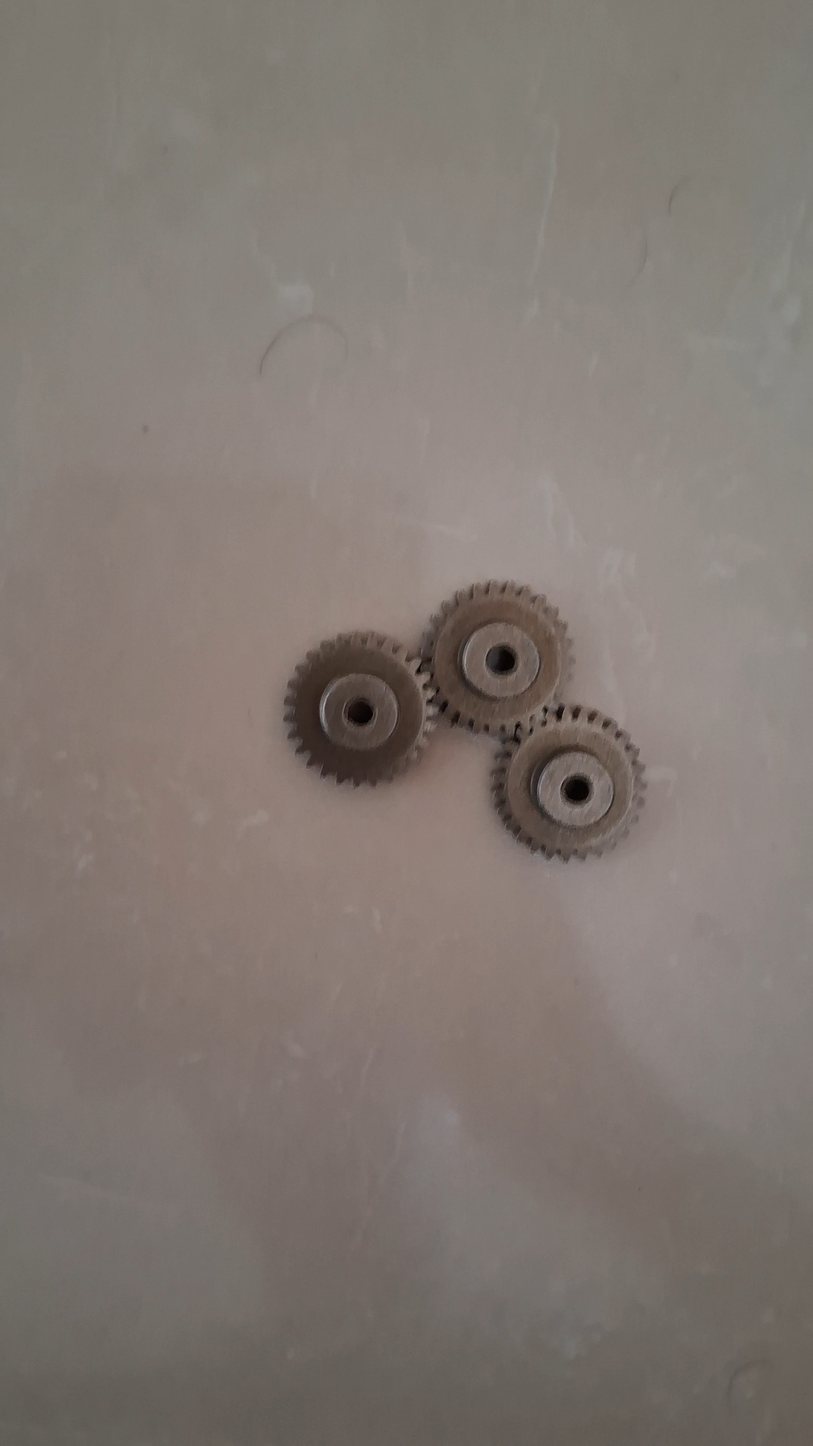spur gear: (493, 705, 645, 859), (285, 632, 436, 785), (422, 581, 570, 737)
